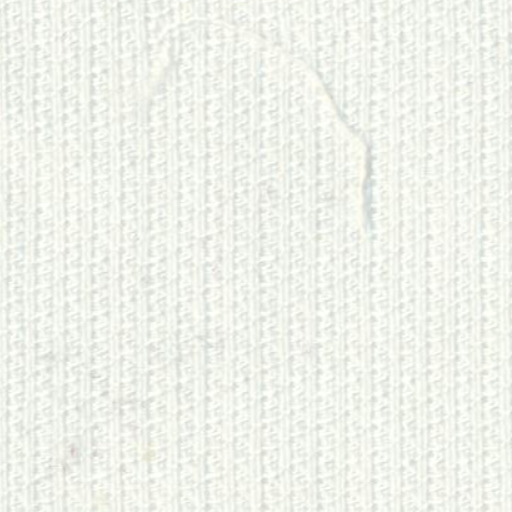DuanSha: (128, 10, 380, 234)
